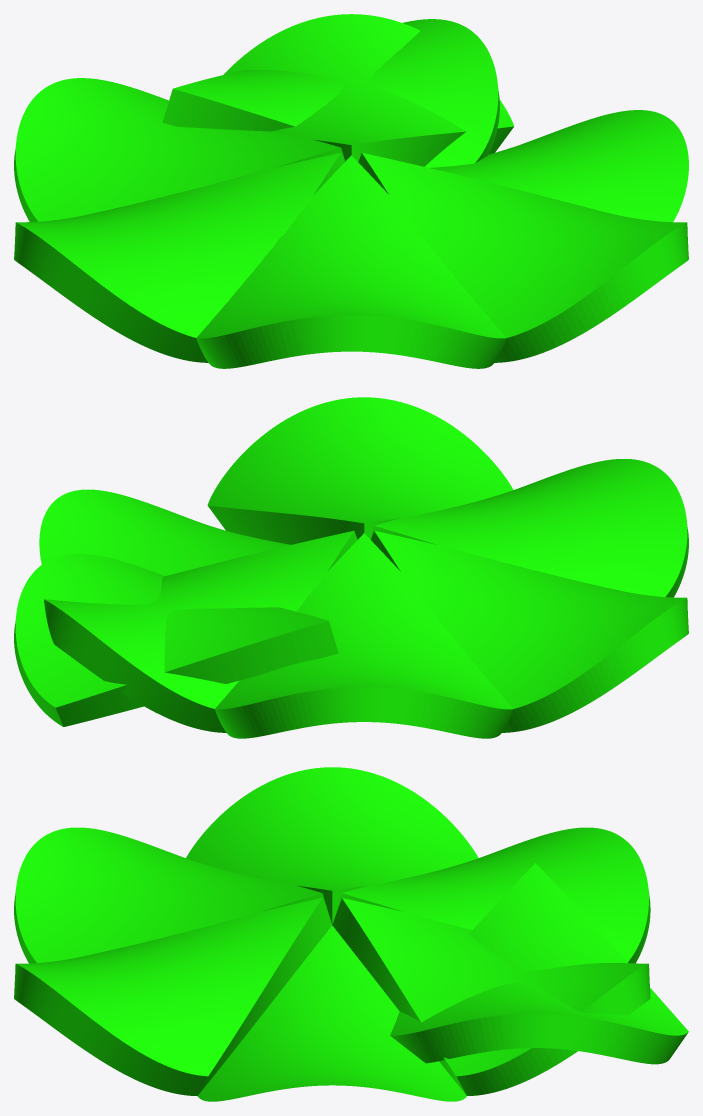
The model's file is candela.glb.
3 views of the same model, one above another, from view 1: azimuth 30°, elevation 25°; view 2: azimuth 150°, elevation 25°; view 3: azimuth 270°, elevation 25° (orthographic). The views are drawn at different scales.
Parts seen in each view (by area): view 1: flower; view 2: flower; view 3: flower.
Part boxes in pixels (left/top/right/bottom): flower: left=14, top=14, right=688, bottom=368; flower: left=14, top=397, right=688, bottom=738; flower: left=14, top=767, right=688, bottom=1101.
Size of the model in its own units: 19.99 by 3.25 by 19.48.
